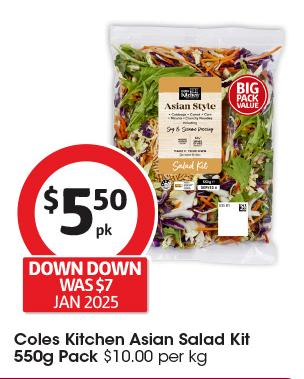description_block: (8, 324, 252, 372)
price_main: (17, 152, 150, 256)
product_image_block: (102, 11, 289, 266)
promo_text_block: (15, 252, 155, 315)
unit_price_block: (100, 342, 209, 370)
